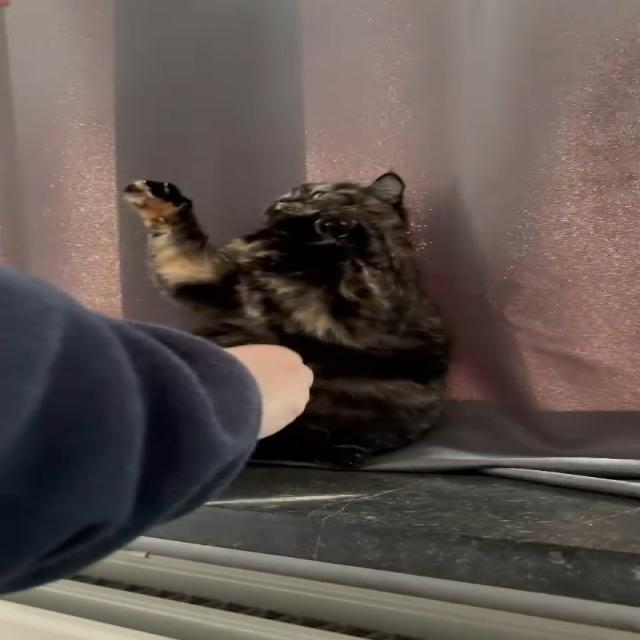authorized: (121, 170, 455, 469)
